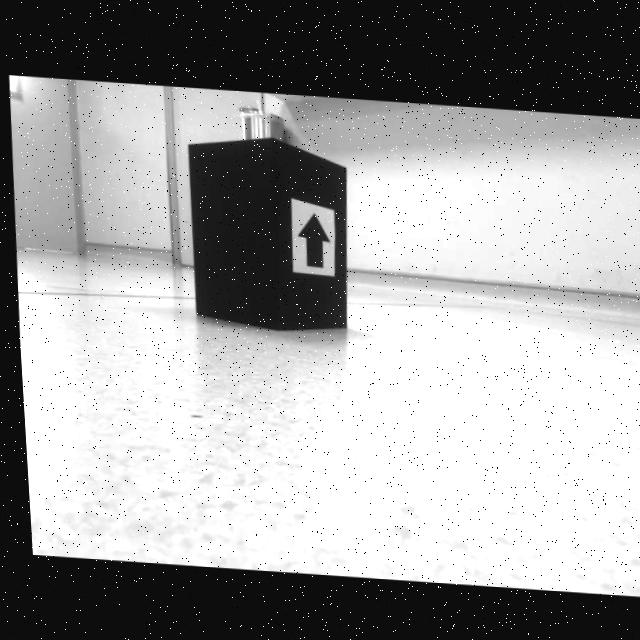UP: (293, 209, 328, 265)
